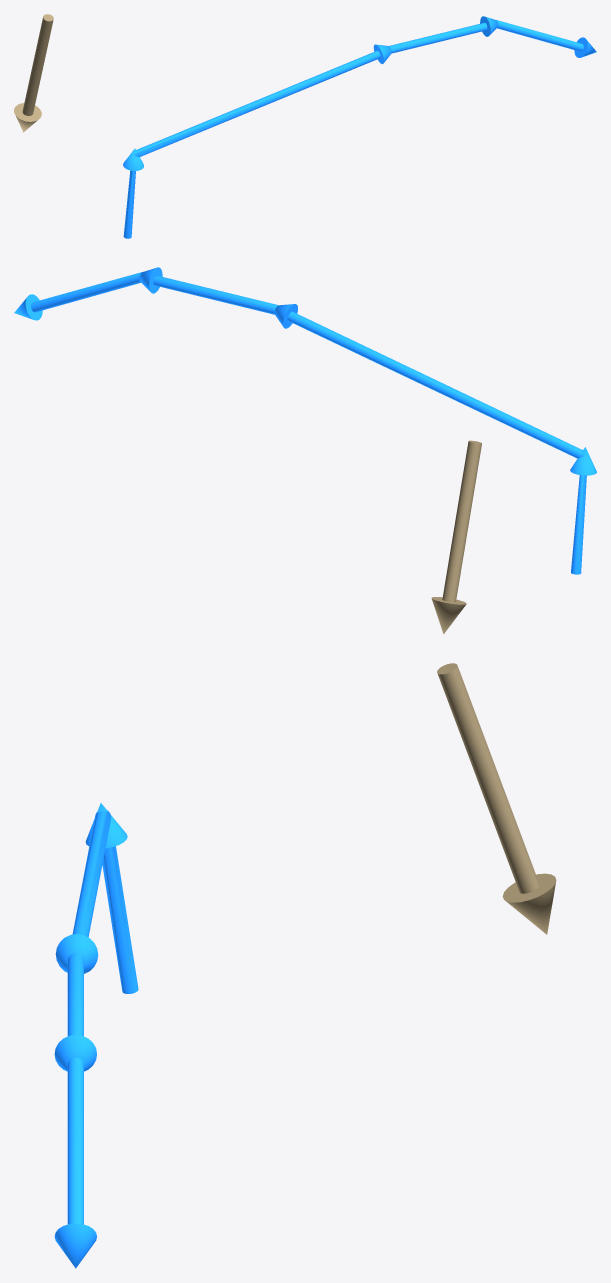
The model's file is alumina_hydrate_filter_flow.glb.
3 views of the same model, one above another, from view 1: azimuth 30°, elevation 25°; view 2: azimuth 150°, elevation 25°; view 3: azimuth 270°, elevation 25° (orthographic). The views are drawn at different scales.
Visible parts, largest first — view 1: vacuum_filtrate, cake.001; view 2: vacuum_filtrate, cake.001; view 3: vacuum_filtrate, cake.001.
Boxes of the visible parts, bbox=[...] form: vacuum_filtrate: bbox=[123, 16, 596, 238]; cake.001: bbox=[14, 14, 53, 132]; vacuum_filtrate: bbox=[14, 267, 596, 574]; cake.001: bbox=[431, 440, 481, 634]; vacuum_filtrate: bbox=[54, 803, 138, 1268]; cake.001: bbox=[437, 663, 556, 934].
Size of the model in its own units: 1.98 by 0.6586 by 0.9189.
